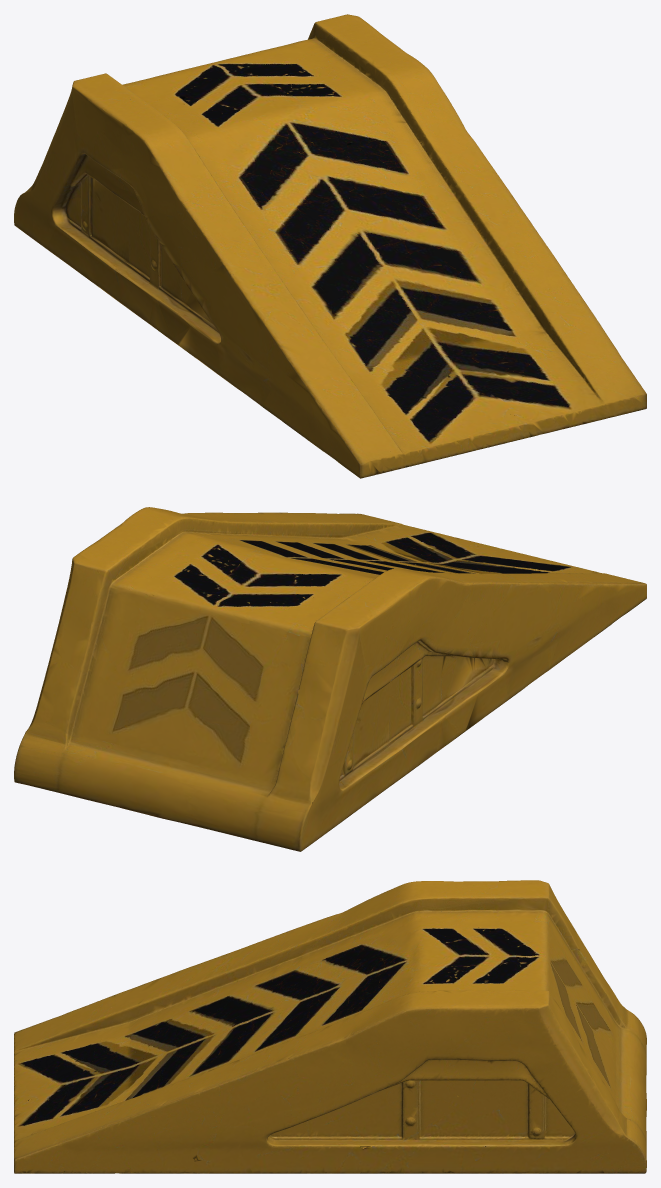
File: ramp.glb
The picture shows the model from 3 angles, top to bottom: view 1: azimuth 30°, elevation 25°; view 2: azimuth 150°, elevation 25°; view 3: azimuth 270°, elevation 25°; orthographic projection. The views are drawn at different scales.
Parts seen in each view (by area): view 1: mesh_node; view 2: mesh_node; view 3: mesh_node.
Part boxes in pixels (x1,y1,x2,y2): mesh_node: (14, 14, 646, 478); mesh_node: (14, 507, 646, 851); mesh_node: (14, 880, 646, 1173).
Bounding box in the file's own units: 0.9174 × 0.5524 × 1.9.
Materials: 1 (1 with a texture image).
